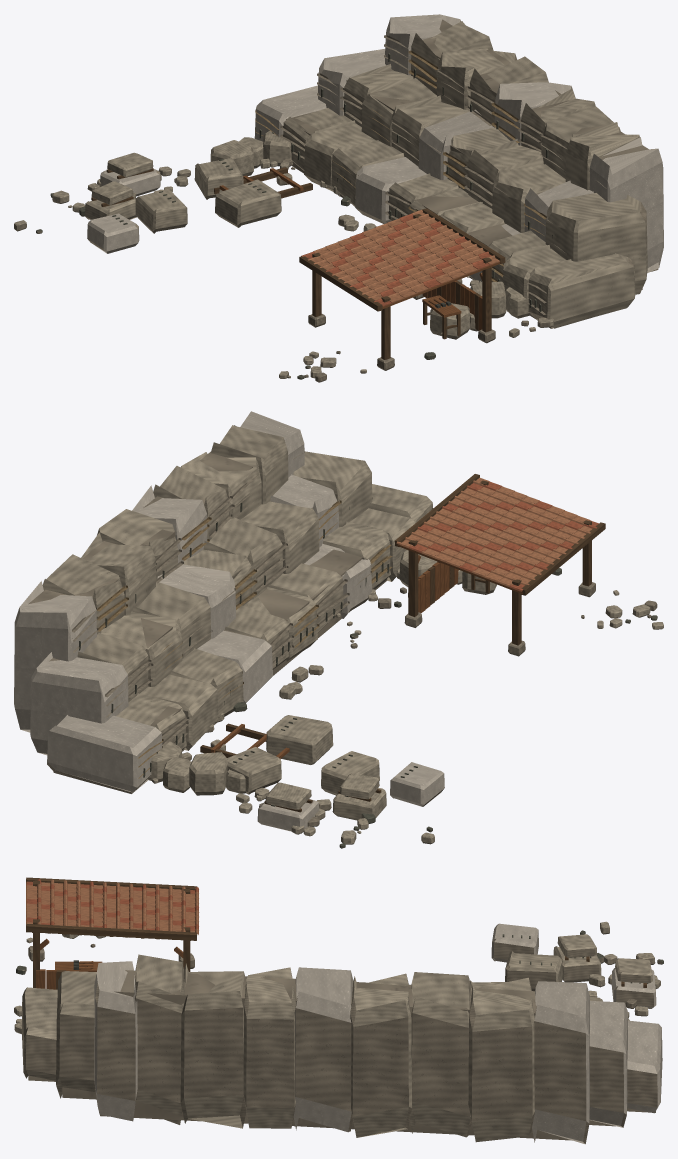
Rendered from old_quarry.glb.
The picture shows the model from 3 angles, top to bottom: view 1: azimuth 30°, elevation 25°; view 2: azimuth 150°, elevation 25°; view 3: azimuth 270°, elevation 25°; orthographic projection. The views are drawn at different scales.
Visible parts, largest first — view 1: Quarry_RockBenches, Quarry_Shelter, Quarry_DressedStone, Quarry_Rubble; view 2: Quarry_RockBenches, Quarry_Shelter, Quarry_DressedStone, Quarry_Rubble; view 3: Quarry_RockBenches, Quarry_Shelter, Quarry_DressedStone, Quarry_Rubble.
Part boxes in pixels (bbox=[...]): Quarry_RockBenches: bbox=[210, 14, 663, 339]; Quarry_Shelter: bbox=[299, 208, 505, 370]; Quarry_DressedStone: bbox=[85, 152, 312, 253]; Quarry_Rubble: bbox=[14, 158, 553, 382]; Quarry_RockBenches: bbox=[14, 411, 496, 795]; Quarry_Shelter: bbox=[394, 474, 605, 656]; Quarry_DressedStone: bbox=[200, 715, 444, 833]; Quarry_Rubble: bbox=[152, 568, 663, 848]; Quarry_RockBenches: bbox=[21, 954, 662, 1144]; Quarry_Shelter: bbox=[26, 877, 199, 989]; Quarry_DressedStone: bbox=[470, 923, 656, 1008]; Quarry_Rubble: bbox=[14, 921, 663, 1034].
Bounding box in the file's own units: 17.03 × 5.97 × 20.8.
Materials: 1 (1 with a texture image).
